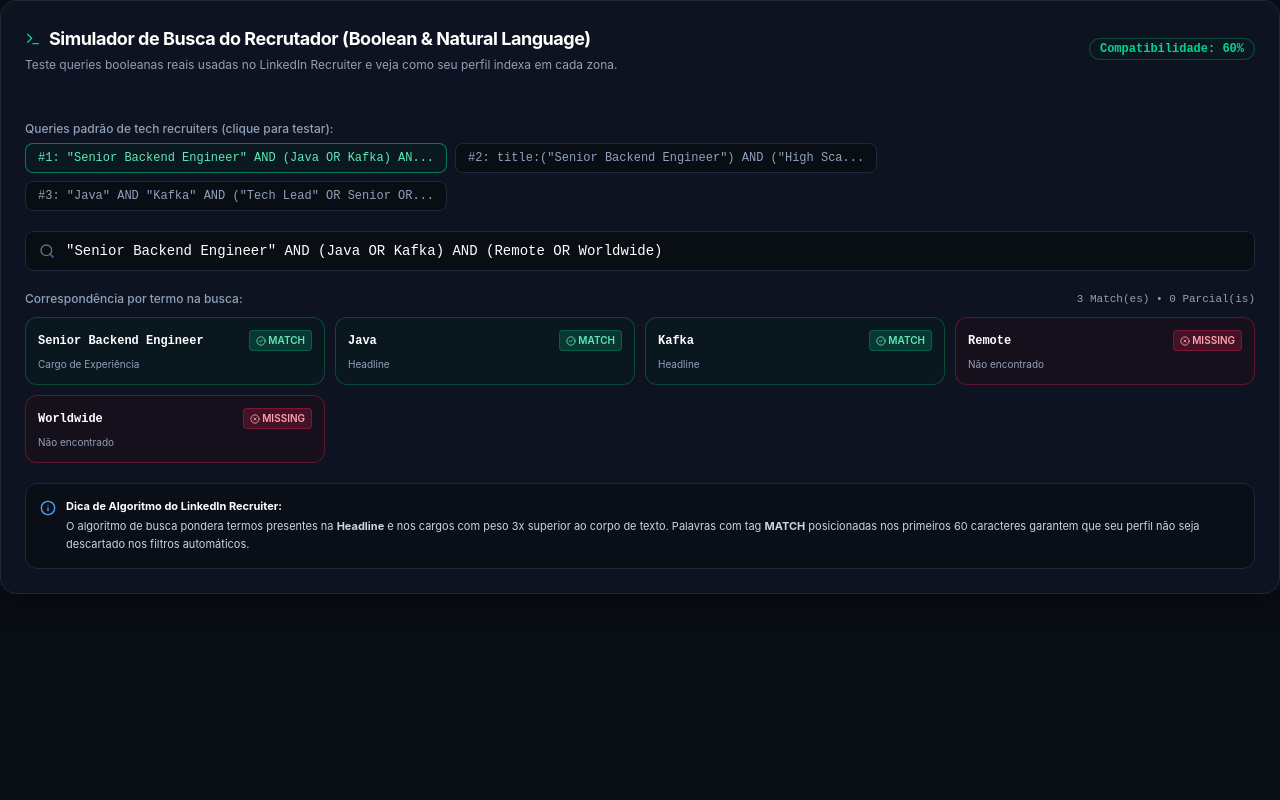
Test: RecruiterSearchSimulator Component › handles unmatched quotes and comma-separated lists gracefully
# User typing an unclosed quote: "Senior Backend Engineer
Replace the text in the field with placeholder "Ex: \"Senior Backend Engineer\" AND (Java OR Go) AND Kafka" with "\"Senior Backend Engineer". click: (640, 251)
box: [25,231,1255,271]
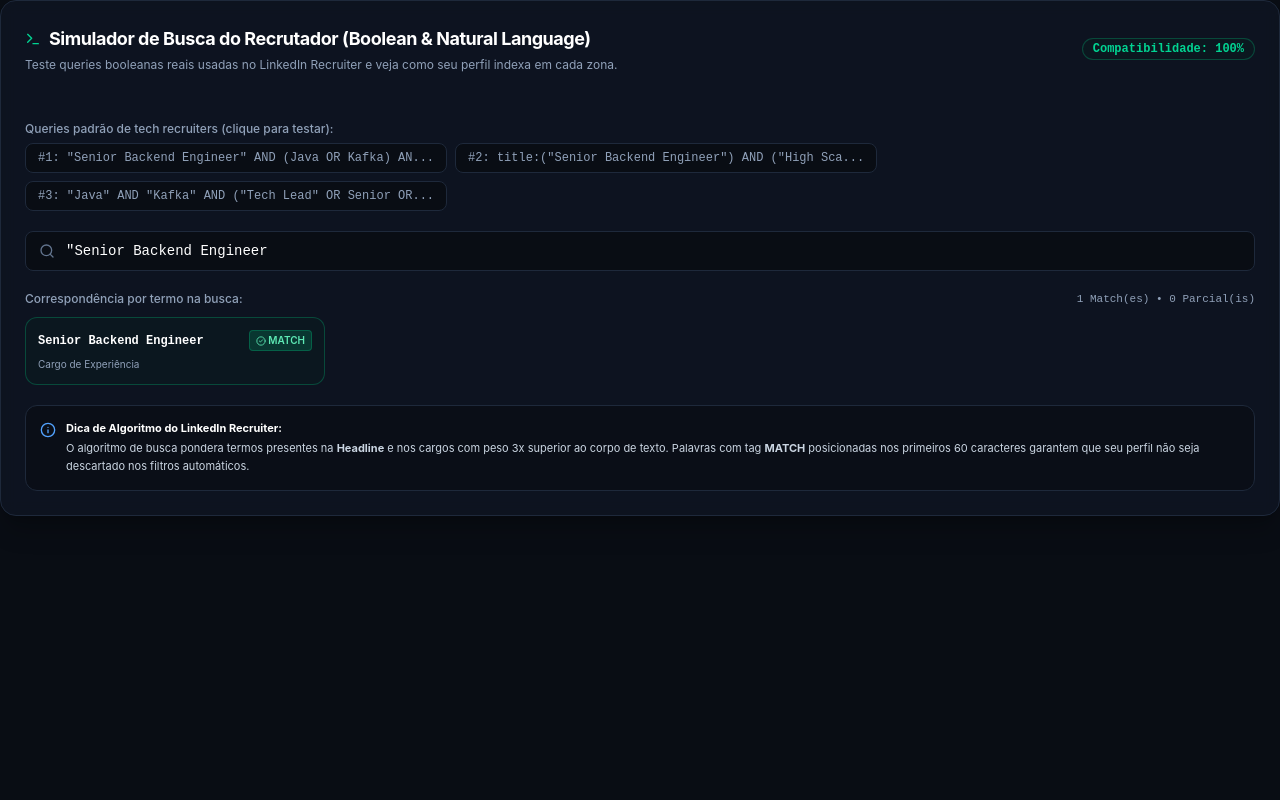
Expected: the text "Senior Backend Engineer" is shown, [38,332,204,348]
# Comma-separated query: Java, Kafka, AWS
Replace the text in the field with placeholder "Ex: \"Senior Backend Engineer\" AND (Java OR Go) AND Kafka" with "Java, Kafka, AWS". click: (640, 251)
box: [25,231,1255,271]
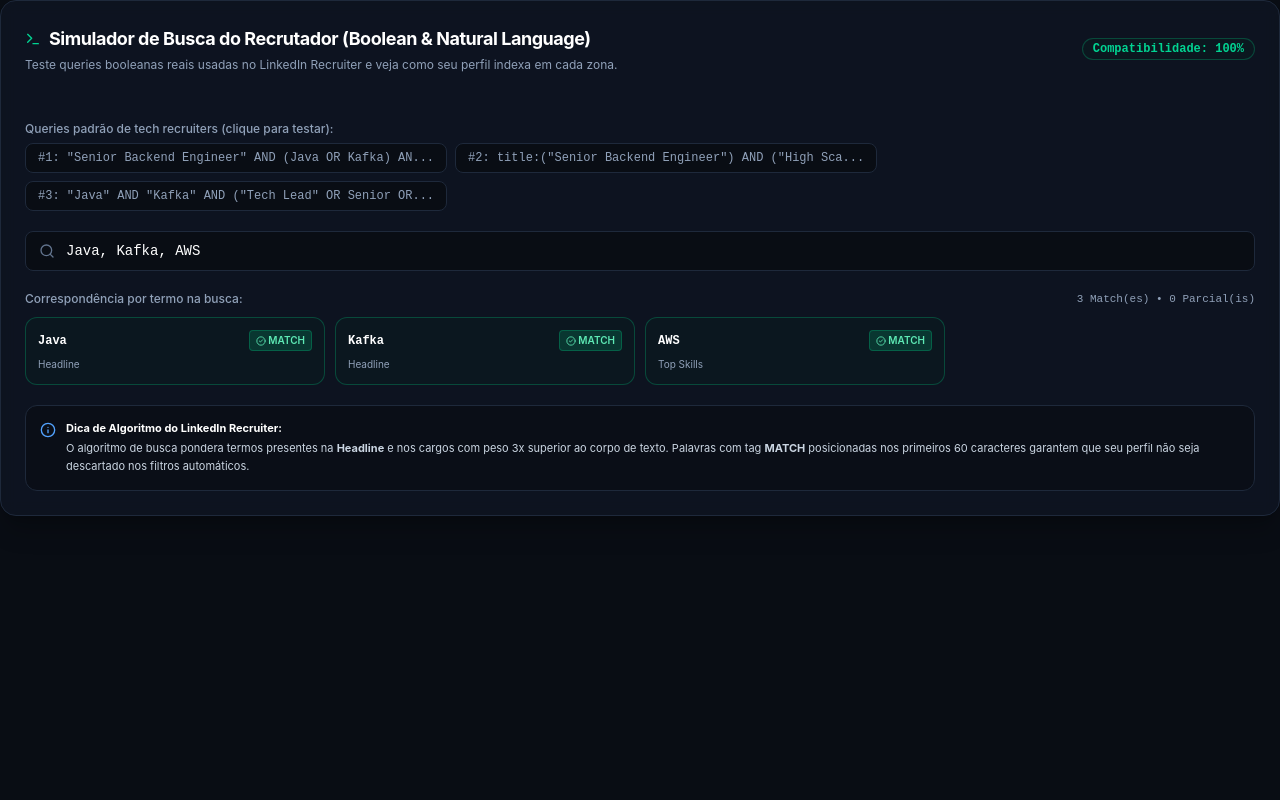
Now the text "Java" is shown, box [38,332,67,348]
Now the text "Kafka" is shown, box [348,332,384,348]
Now the text "AWS" is shown, box [658,332,680,348]
